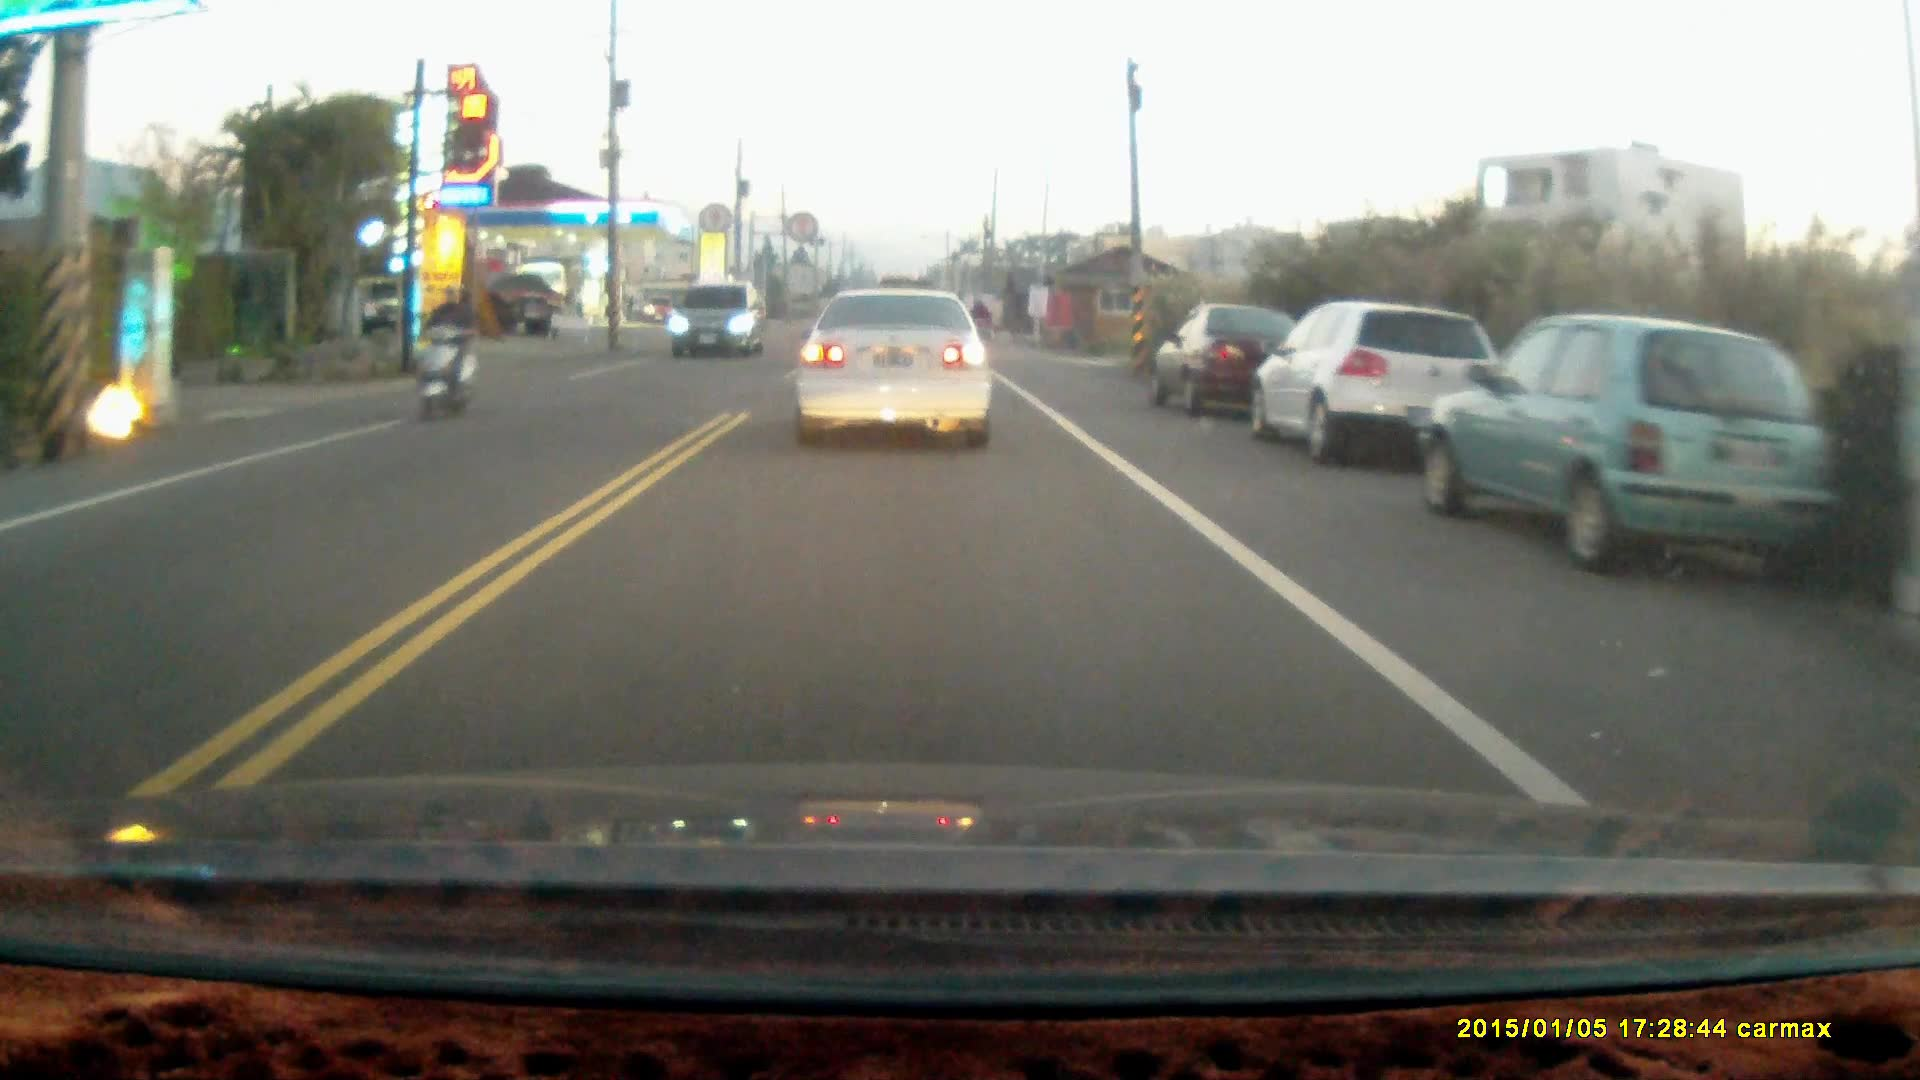rider: (410, 280, 476, 425)
vehicle: (1417, 319, 1829, 581), (1254, 305, 1499, 473), (793, 288, 996, 453), (1153, 309, 1307, 424), (666, 286, 766, 365)
